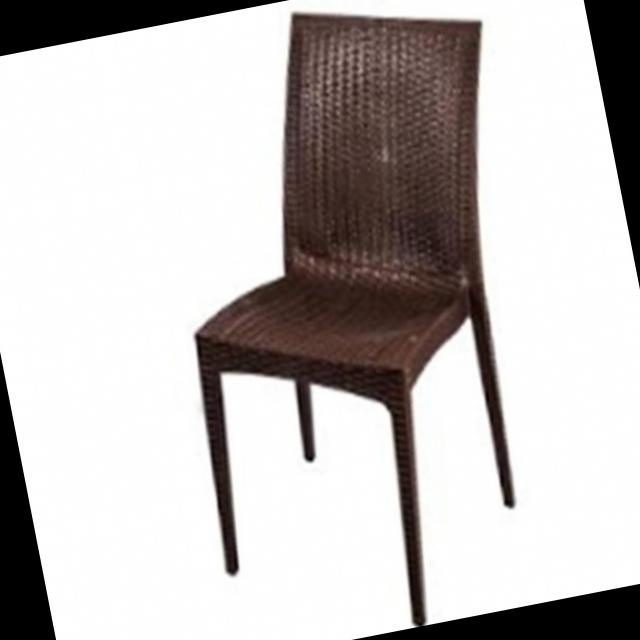Chair: (103, 0, 598, 640)
